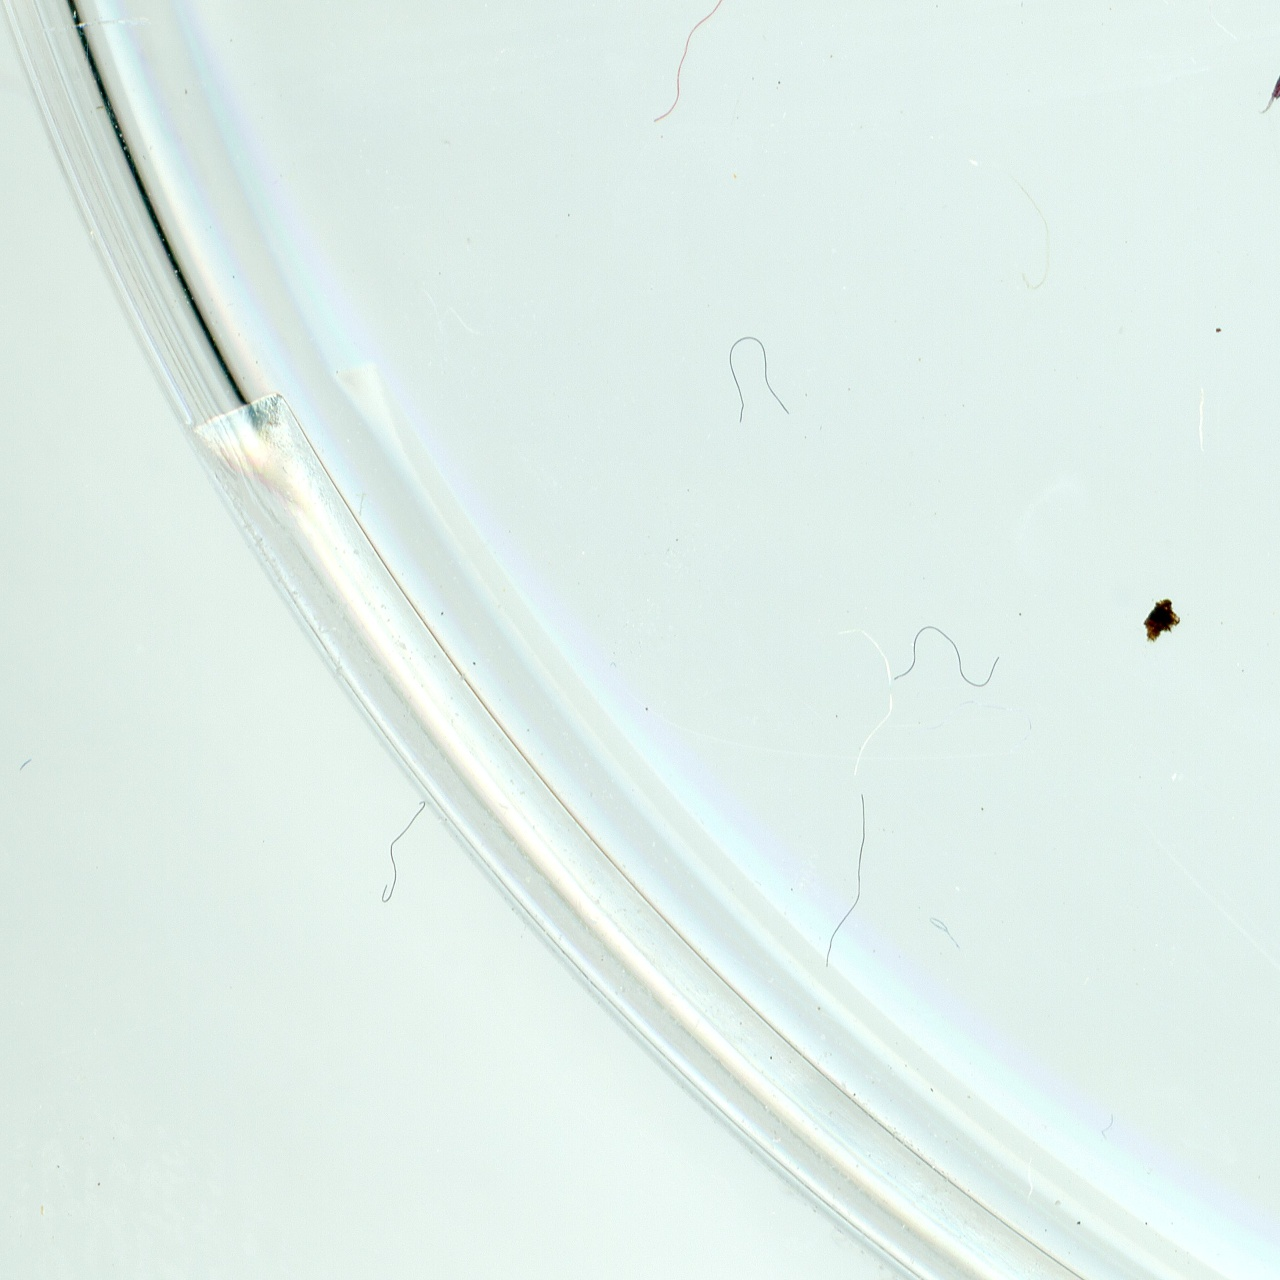arthropod: (1246, 30, 1280, 134)
